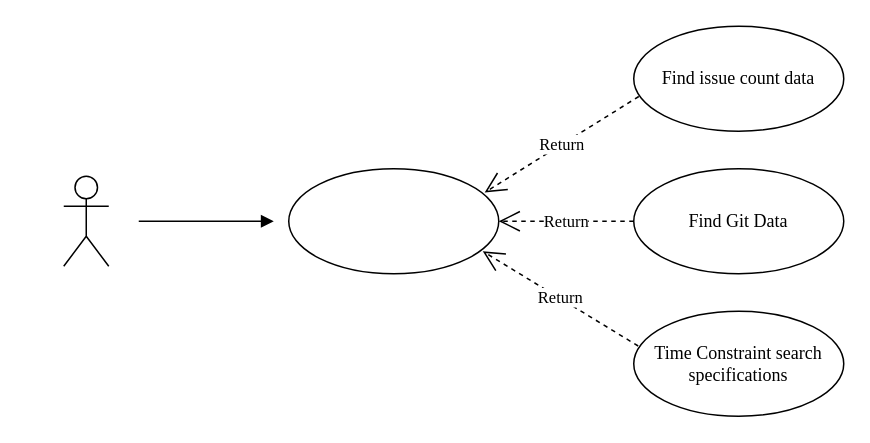
Some shapes in this 870 by 443 pixel diagram are drawn without their labels. The shapes that lost their labels are listed below. From the top down, each one's box as (x1, y1, x2, y2) in pixels, then its label:
(62, 175, 109, 266): Project Manager
(287, 167, 499, 274): Find Total Issue Count
